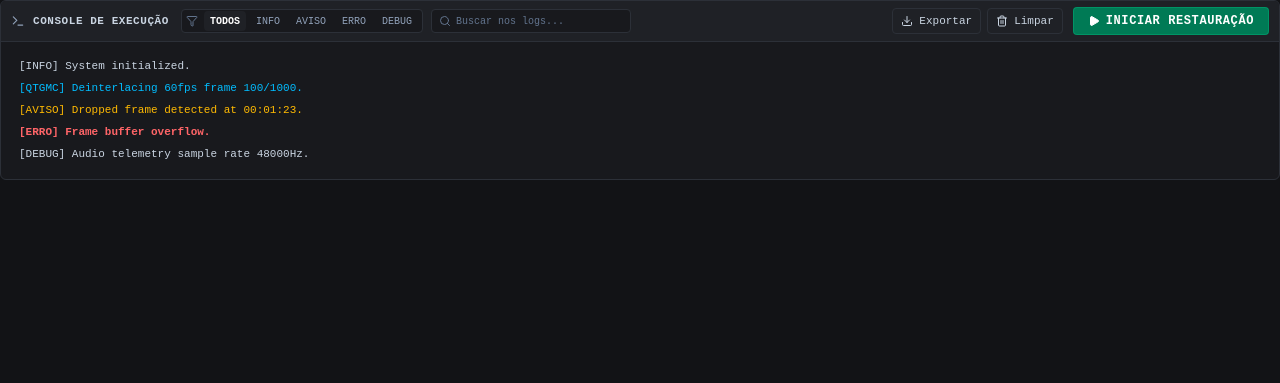
Test: ConsoleViewer Component with Live Search › opens context menu on right click and copies line to clipboard
Right-click the text "[INFO] System initialized.".
right_click(105, 66)  # box [19,60,191,72]
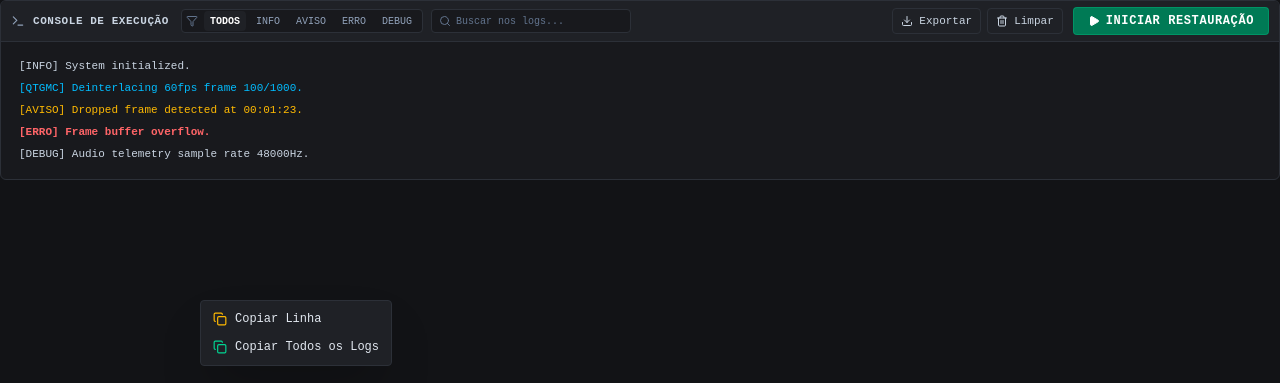
Expected: the element with test id "console-context-menu" is shown, [200,300,392,366]
Expected: the button with test id "copy-line-btn" is shown
Expected: the button with test id "copy-all-btn" is shown, [201,333,391,361]
Click the button with test id "copy-line-btn".
click(296, 319)  # box [201,305,391,333]
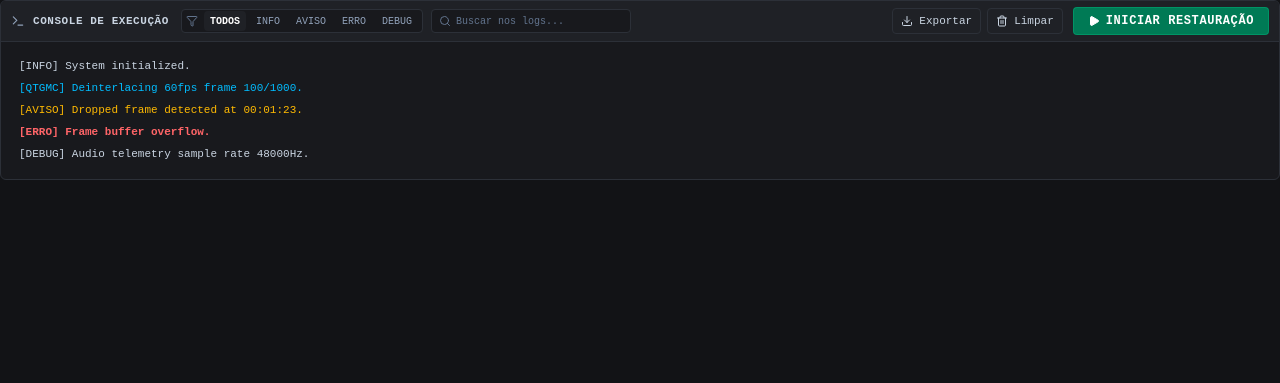
Expected: the element with test id "console-context-menu" is gone
